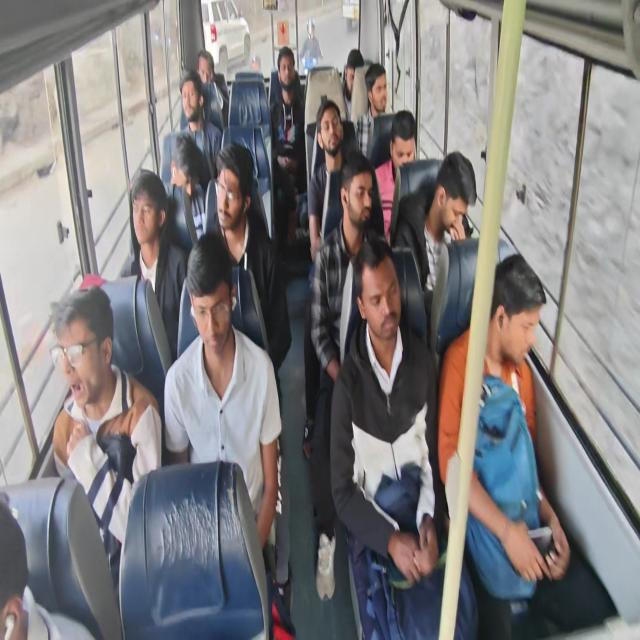person: (46, 290, 110, 406), (495, 271, 545, 377), (360, 259, 406, 352), (436, 158, 479, 248), (192, 259, 234, 346), (342, 174, 374, 227), (134, 188, 158, 248), (393, 112, 417, 171), (322, 109, 344, 156), (372, 68, 392, 116), (343, 53, 361, 97)
